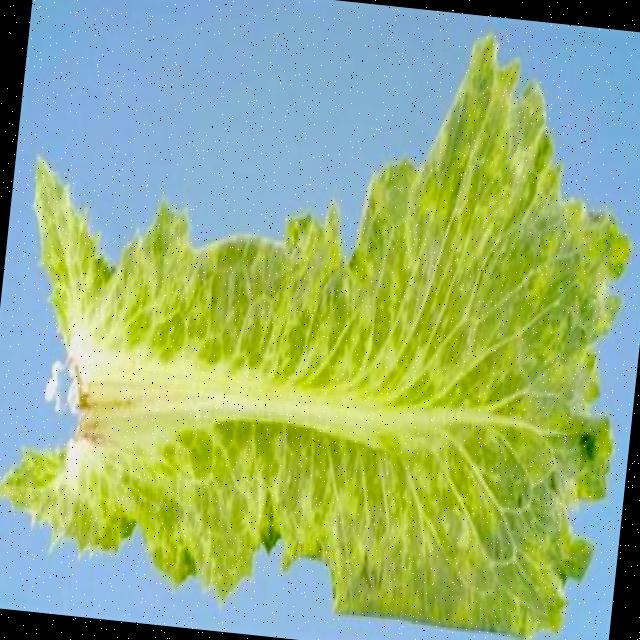Viral: (19, 107, 636, 606)
